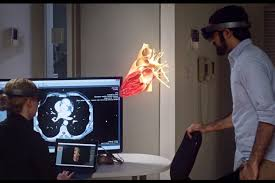hololens: (200, 22, 251, 42), (2, 86, 47, 107)
